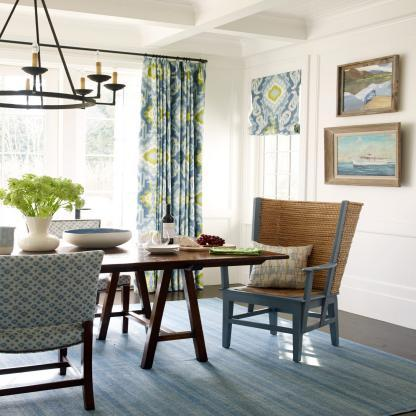chair: (217, 187, 369, 368), (0, 233, 101, 416)
light: (0, 1, 130, 116)
table: (0, 242, 288, 374)
